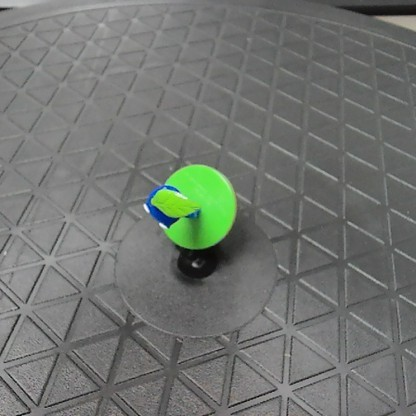leafairy: (140, 158, 238, 249)
